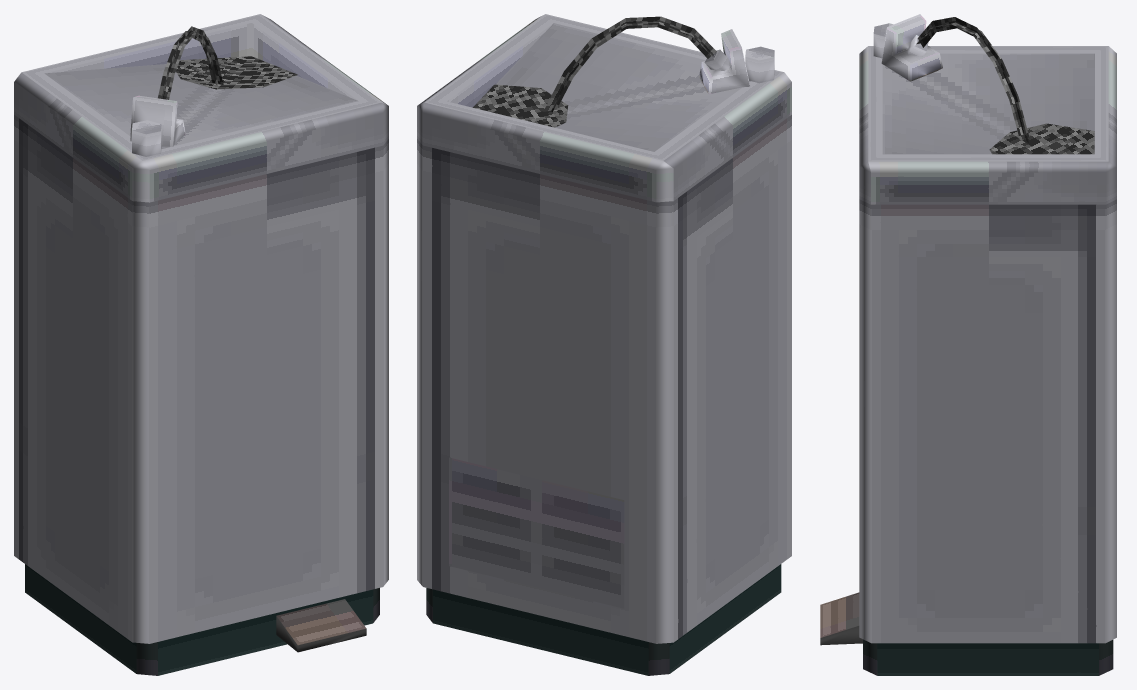
File: int_oth_watercoolers.dae
3 views of the same model, side by side, from view 1: azimuth 30°, elevation 25°; view 2: azimuth 150°, elevation 25°; view 3: azimuth 270°, elevation 25° (orthographic).
Parts seen in each view (by area): view 1: int_oth_watercoolers; view 2: int_oth_watercoolers; view 3: int_oth_watercoolers.
Part boxes in pixels (x1,y1,x2,y2): int_oth_watercoolers: (14,14,388,675); int_oth_watercoolers: (417,14,791,675); int_oth_watercoolers: (820,14,1116,675).
Bounding box in the file's own units: 16.61 × 36.21 × 17.07.
Materials: 2 (2 with a texture image).
